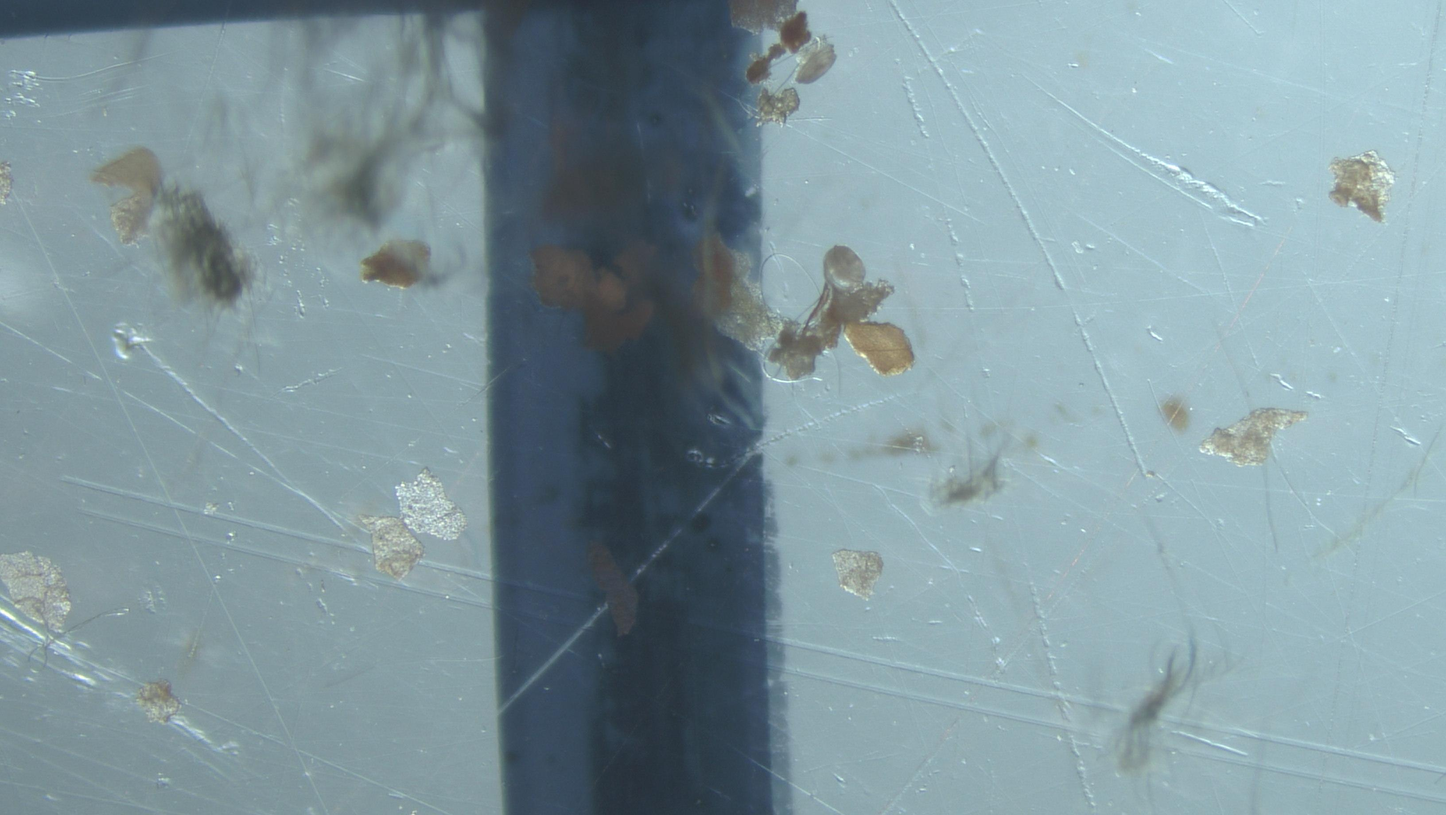live: (824, 246, 866, 289)
